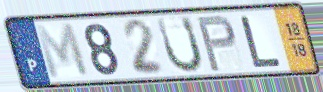2: (122, 17, 167, 76)
8: (83, 22, 121, 77)
L: (239, 14, 284, 70)
M: (32, 21, 92, 81)
P: (195, 13, 239, 74)
U: (155, 15, 206, 76)
